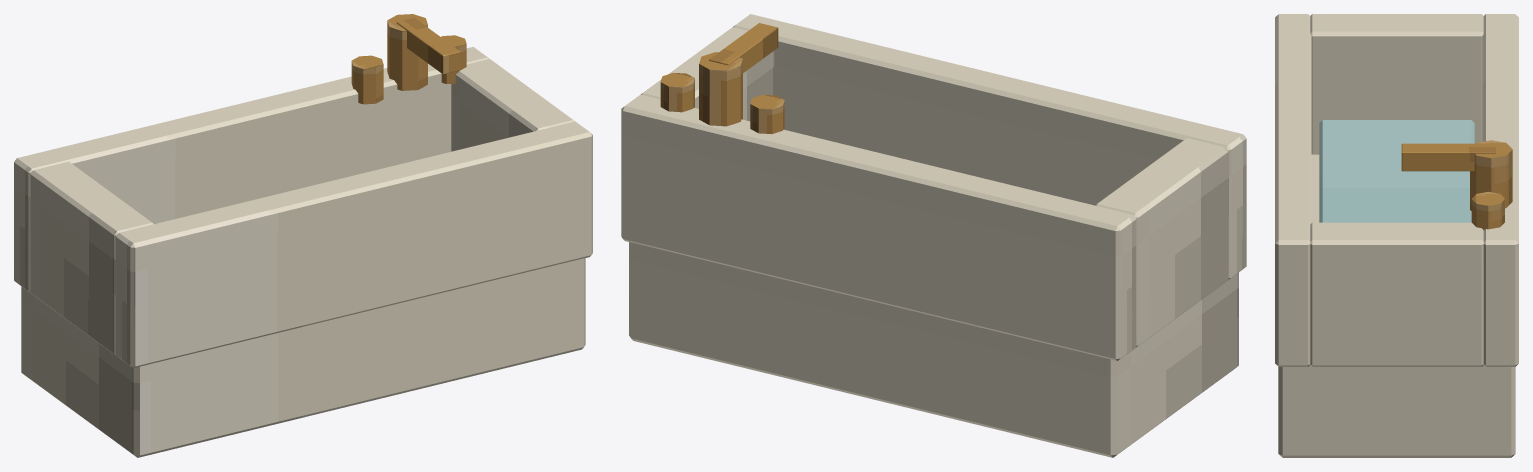
The model's file is house_bathtub.glb.
3 views of the same model, side by side, from view 1: azimuth 30°, elevation 25°; view 2: azimuth 150°, elevation 25°; view 3: azimuth 270°, elevation 25° (orthographic). The views are drawn at different scales.
Visible parts, largest first — view 1: BathtubRimFront, BathtubBase, BathtubRimBack, BathtubEndLeft, BathtubEndRight, TubFaucetBase, TubFaucetSpout, TubTap0.42; view 2: BathtubRimBack, BathtubBase, BathtubRimFront, BathtubEndLeft, TubFaucetBase, BathtubEndRight, TubFaucetSpout, TubTap0.42, TubTap0.74; view 3: BathtubEndRight, BathtubBase, BathtubEndLeft, BathtubInterior, BathtubRimFront, BathtubRimBack, TubFaucetSpout, TubFaucetBase, TubTap0.74.
Part boxes in pixels (left/top/right/bottom): BathtubRimFront: left=116, top=121, right=592, bottom=368; BathtubBase: left=21, top=258, right=585, bottom=457; BathtubRimBack: left=14, top=47, right=489, bottom=292; BathtubEndLeft: left=30, top=161, right=153, bottom=355; BathtubEndRight: left=451, top=59, right=574, bottom=151; TubFaucetBase: left=387, top=14, right=427, bottom=90; TubFaucetSpout: left=396, top=17, right=460, bottom=74; TubTap0.42: left=351, top=55, right=383, bottom=104; BathtubRimBack: left=621, top=94, right=1136, bottom=361; BathtubBase: left=629, top=242, right=1238, bottom=457; BathtubRimFront: left=733, top=14, right=1246, bottom=279; BathtubEndLeft: left=1095, top=138, right=1228, bottom=347; TubFaucetBase: left=699, top=52, right=742, bottom=126; BathtubEndRight: left=641, top=27, right=774, bottom=121; TubFaucetSpout: left=709, top=23, right=778, bottom=72; TubTap0.42: left=750, top=94, right=784, bottom=134; TubTap0.74: left=660, top=72, right=694, bottom=112; BathtubEndRight: left=1310, top=222, right=1483, bottom=366; BathtubBase: left=1278, top=154, right=1515, bottom=457; BathtubEndLeft: left=1310, top=14, right=1483, bottom=154; BathtubInterior: left=1319, top=120, right=1474, bottom=222; BathtubRimFront: left=1275, top=14, right=1311, bottom=366; BathtubRimBack: left=1482, top=14, right=1518, bottom=366; TubFaucetSpout: left=1401, top=143, right=1495, bottom=171; TubFaucetBase: left=1470, top=140, right=1512, bottom=210; TubTap0.74: left=1471, top=191, right=1504, bottom=230.
Size of the model in its own units: 1.78 by 0.995 by 0.8.
1 material, 1 textured.
